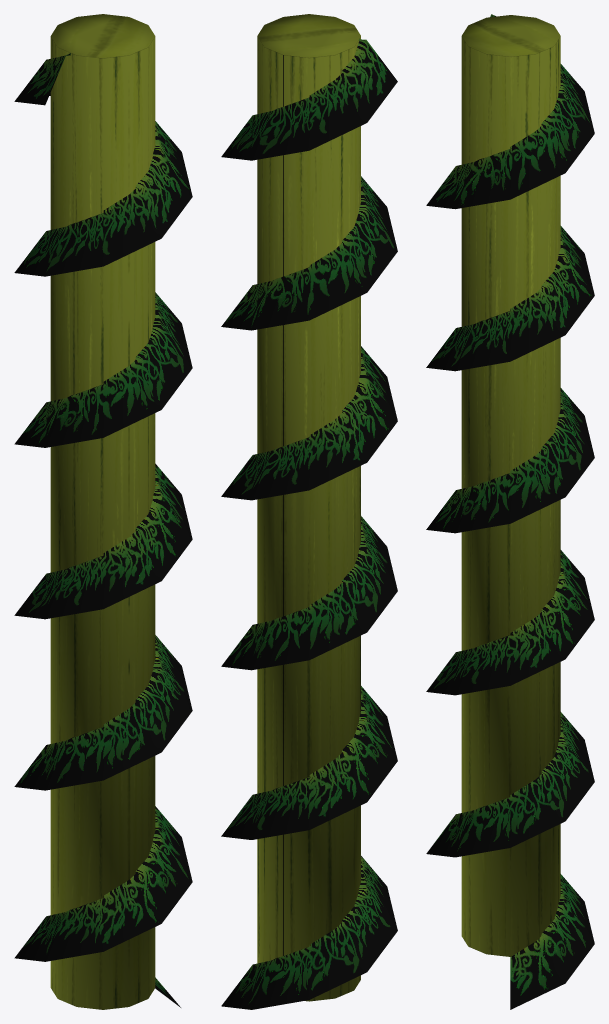
The model's file is M_Vines.glb.
3 views of the same model, side by side, from view 1: azimuth 30°, elevation 25°; view 2: azimuth 150°, elevation 25°; view 3: azimuth 270°, elevation 25° (orthographic). The views are drawn at different scales.
Visible parts, largest first — view 1: Plane; view 2: Plane; view 3: Plane.
Part boxes in pixels (x1,y1,x2,y2): Plane: (14, 14, 192, 1009); Plane: (221, 14, 397, 1009); Plane: (426, 14, 594, 1009).
Size of the model in its own units: 0.3346 by 2.08 by 0.3398.
1 material, 1 textured.
